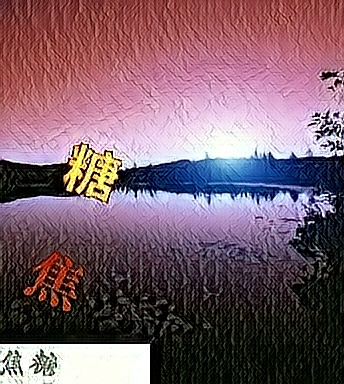BDB9: (22, 251, 89, 315)
CCC7: (58, 141, 125, 205)
